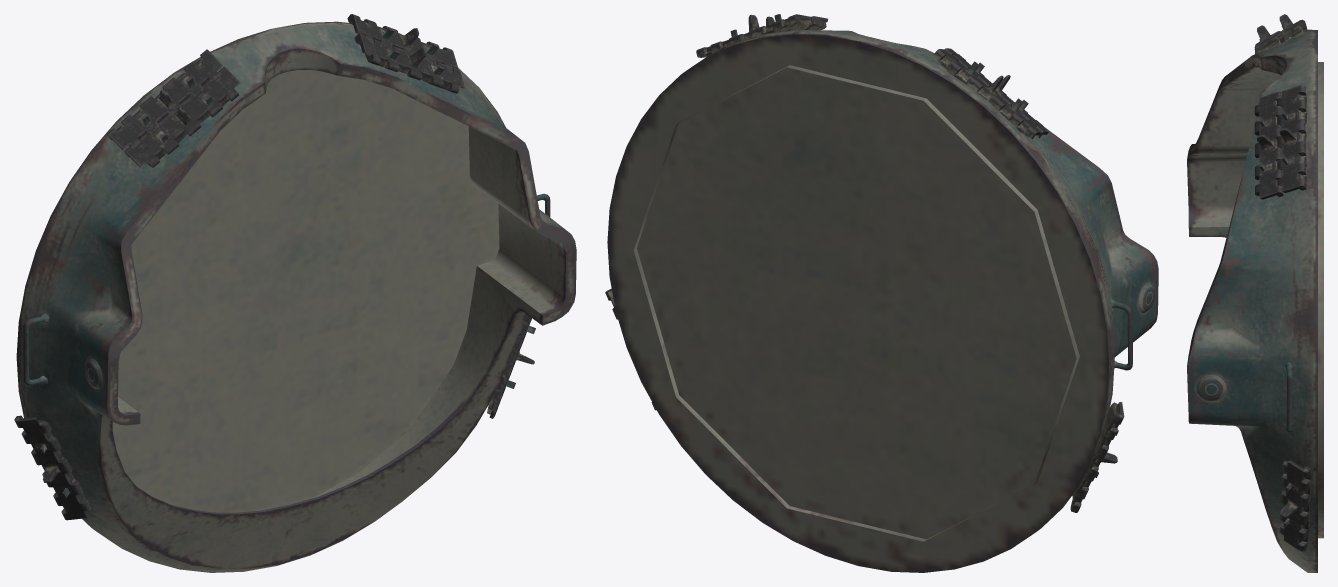
File: Turret_01.glb
3 renders of one model, left to right at view 1: azimuth 30°, elevation 25°; view 2: azimuth 150°, elevation 25°; view 3: azimuth 270°, elevation 25°, orthographic. The views are drawn at different scales.
Visible parts, largest first — view 1: set_0_group_0, set_0_group_1; view 2: set_0_group_0, set_0_group_1; view 3: set_0_group_0, set_0_group_1.
Part boxes in pixels (x1,y1,x2,y2): set_0_group_0: (16,21,576,572); set_0_group_1: (14,14,535,520); set_0_group_0: (607,30,1158,572); set_0_group_1: (605,14,1124,512); set_0_group_0: (1187,29,1323,572); set_0_group_1: (1254,14,1311,551).
Size of the model in its own units: 2.71 by 2.64 by 0.6618.
Materials: 2 (2 with a texture image).
